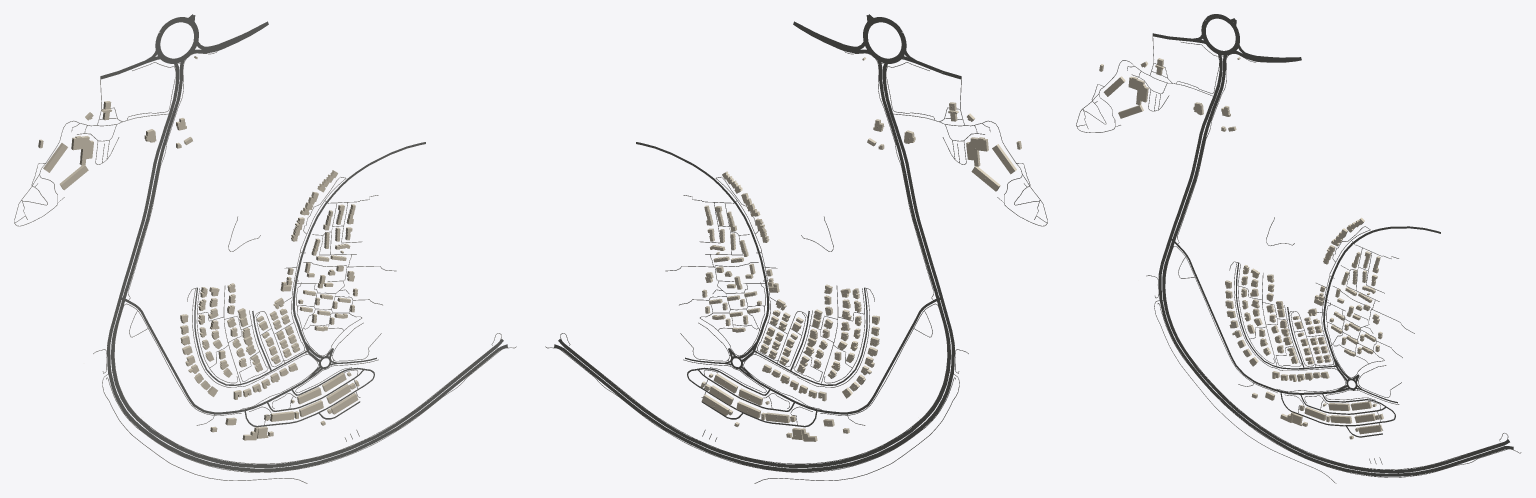
File: historic-palestine-10_27_3516_3210.glb
The picture shows the model from 3 angles, left to right: view 1: azimuth 30°, elevation 25°; view 2: azimuth 150°, elevation 25°; view 3: azimuth 330°, elevation 25°; orthographic projection. The views are drawn at different scales.
Parts seen in each view (by area): view 1: Road דרך רון נחמן.001, Road דרך רון נחמן, Road 4775.001, Road 4775, Road .070, Road חוצה שומרון, Road דרך הנחשונים.001, Road .069, Road דרך עפרון; view 2: Road דרך רון נחמן.001, Road דרך רון נחמן, Road 4775, Road 4775.001, Road .070, Road חוצה שומרון, Road דרך הנחשונים.001, Road .069, Road דרך עפרון; view 3: Road דרך רון נחמן.001, Road דרך רון נחמן, Road 4775.001, Road 4775, Road .070, Road דרך הנחשונים.001, Road חוצה שומרון, Road .069.
Part boxes in pixels (x1,y1,x2,y2): Road דרך רון נחמן.001: [107, 344, 507, 472]; Road דרך רון נחמן: [111, 339, 503, 467]; Road 4775.001: [107, 61, 179, 345]; Road 4775: [111, 58, 185, 344]; Road .070: [114, 303, 501, 464]; Road חוצה שומרון: [155, 17, 198, 63]; Road דרך הנחשונים.001: [292, 142, 425, 342]; Road .069: [106, 346, 516, 472]; Road דרך עפרון: [120, 297, 244, 414]; Road דרך רון נחמן.001: [554, 344, 954, 472]; Road דרך רון נחמן: [558, 339, 950, 467]; Road 4775: [877, 57, 950, 344]; Road 4775.001: [882, 61, 954, 345]; Road .070: [560, 303, 947, 464]; Road חוצה שומרון: [863, 17, 906, 63]; Road דרך הנחשונים.001: [636, 142, 769, 342]; Road .069: [545, 346, 955, 472]; Road דרך עפרון: [817, 297, 941, 414]; Road דרך רון נחמן.001: [1158, 275, 1513, 476]; Road דרך רון נחמן: [1162, 276, 1509, 473]; Road 4775.001: [1158, 52, 1222, 275]; Road 4775: [1162, 52, 1227, 276]; Road .070: [1165, 246, 1508, 469]; Road דרך הנחשונים.001: [1323, 226, 1440, 357]; Road חוצה שומרון: [1201, 14, 1239, 55]; Road .069: [1157, 303, 1521, 477].
Bounding box in the file's own units: 1202 × 1138 × 9.01.
